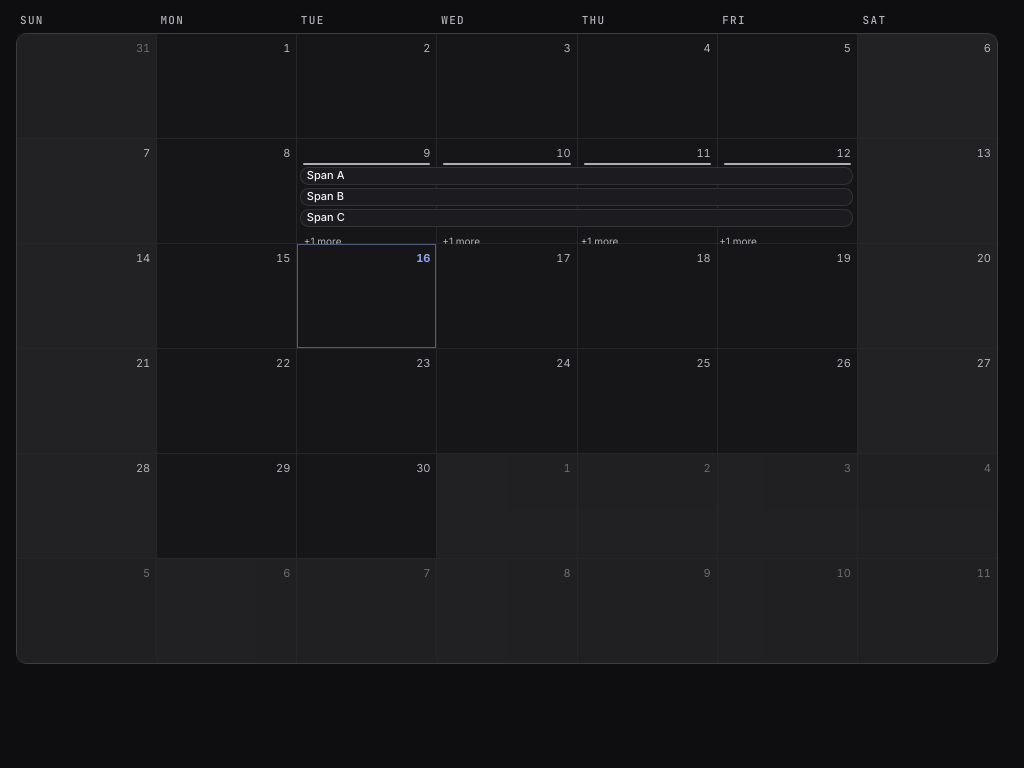
Test case: CalendarMonth › opens a popover listing the hidden item when +N more is clicked
The image size is (1024, 768).
Click the 1st button "+1 more". click: (368,241)
box: [300, 234, 437, 248]
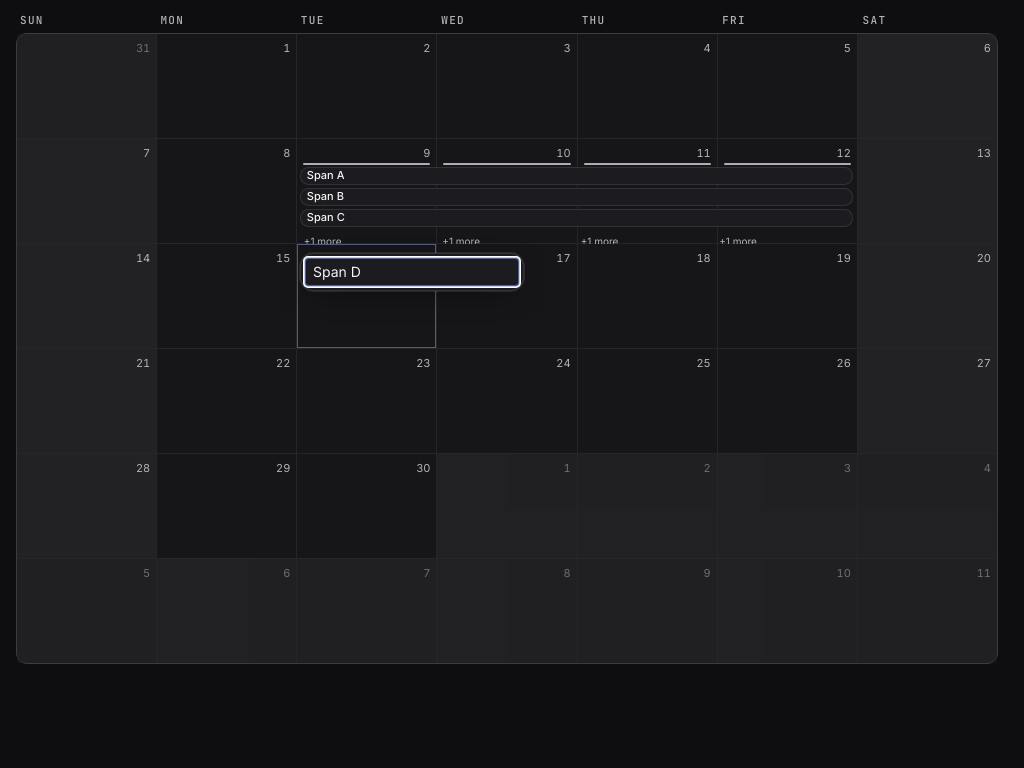
Expected: the button "Span D" is shown, [305, 258, 519, 286]
